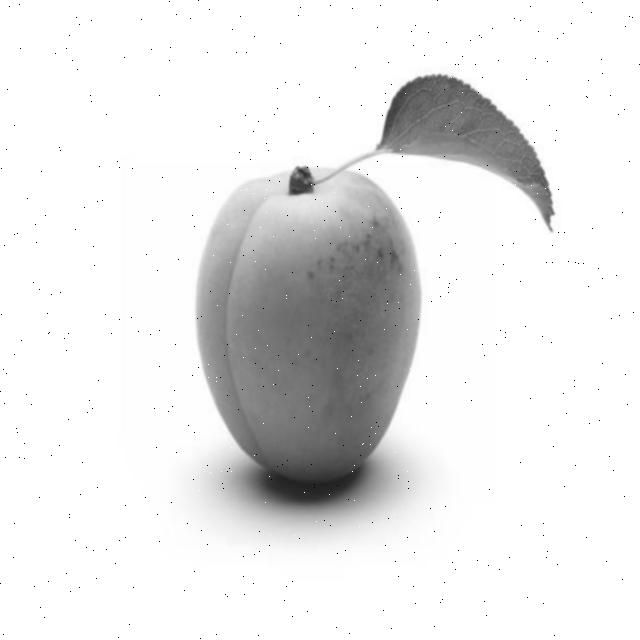Kayisi: (195, 172, 416, 482)
Kayisi Yapragi: (342, 77, 551, 230)
